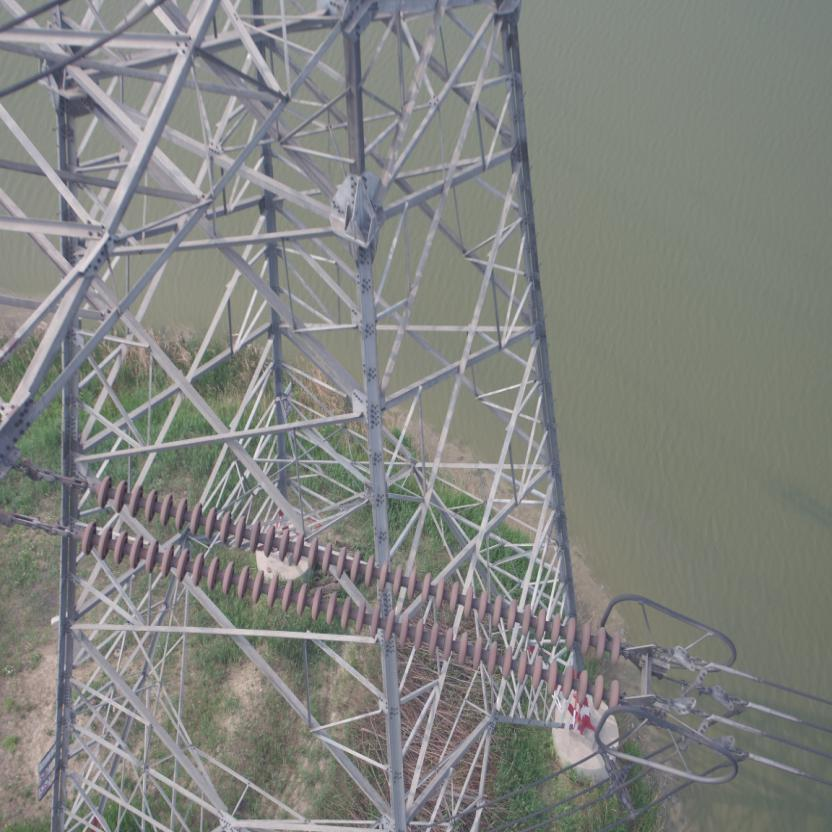insulator: (41, 466, 636, 713)
